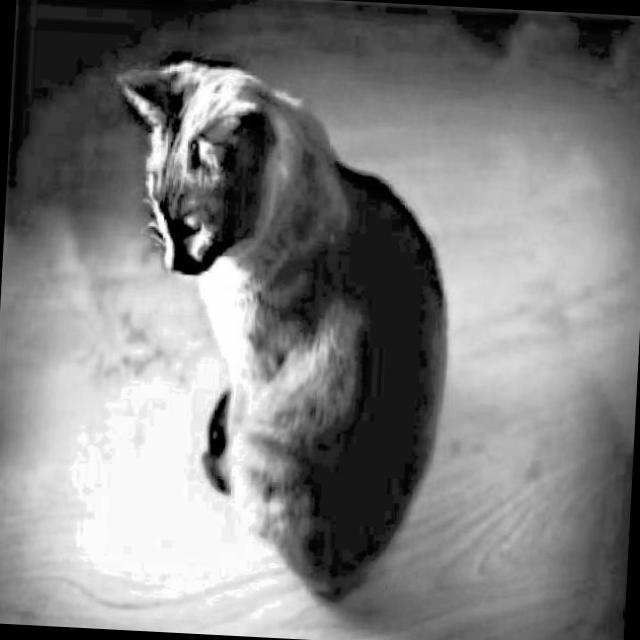Cat: (85, 46, 468, 617)
